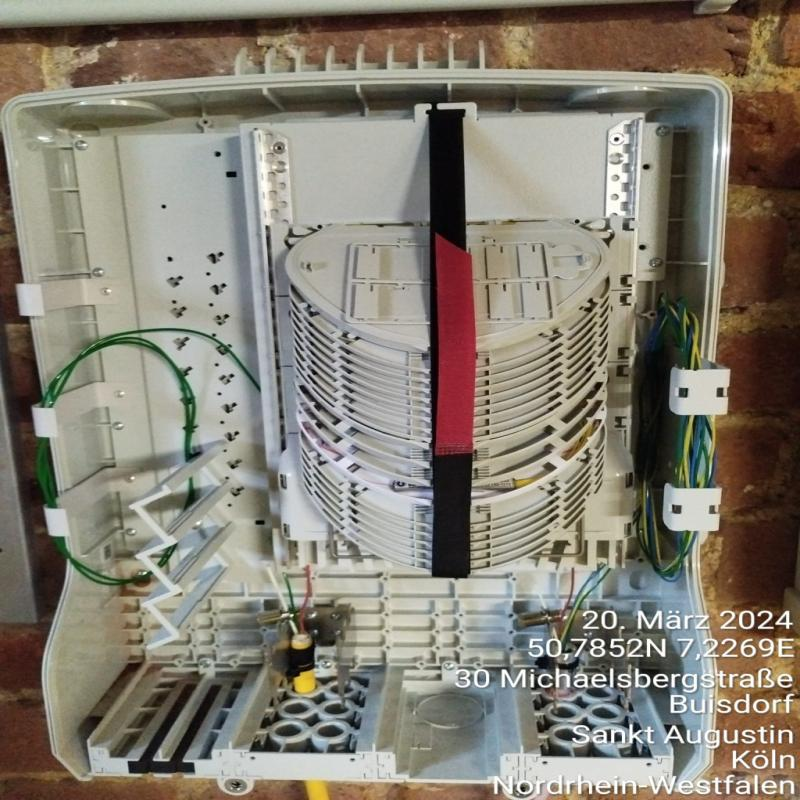NT-Gehause: (8, 67, 729, 766)
Spleiskassetten: (244, 193, 613, 573)
